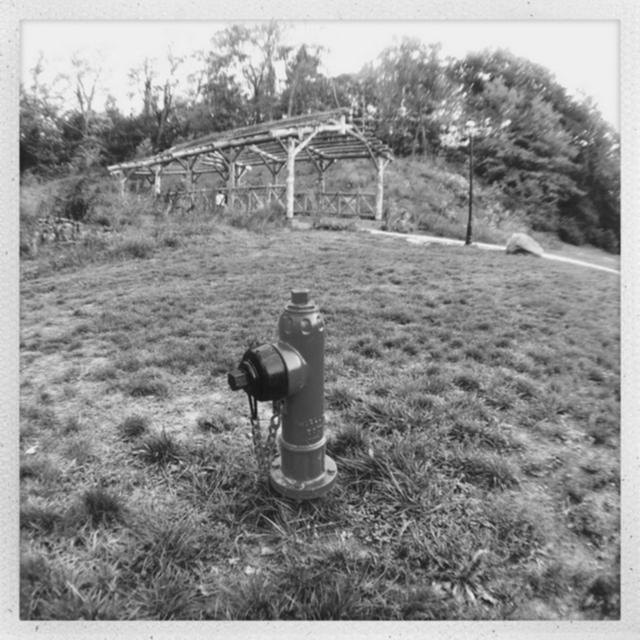fire_hydrant: (225, 287, 339, 502)
pole: (463, 129, 475, 245)
